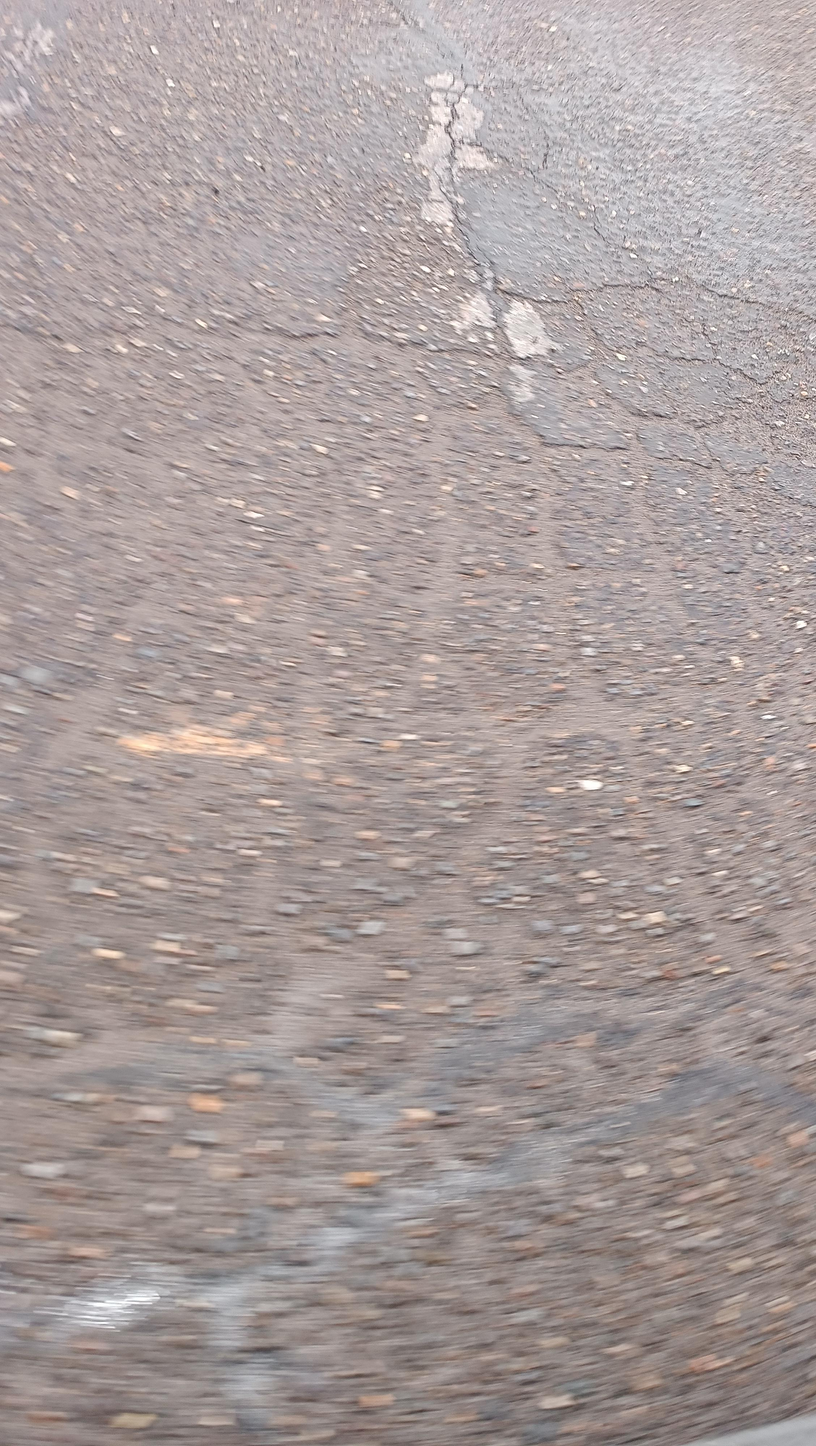GRIETA: (0, 314, 482, 364)
PIEL DE COCODRILO: (3, 461, 789, 1445), (410, 43, 816, 549)
